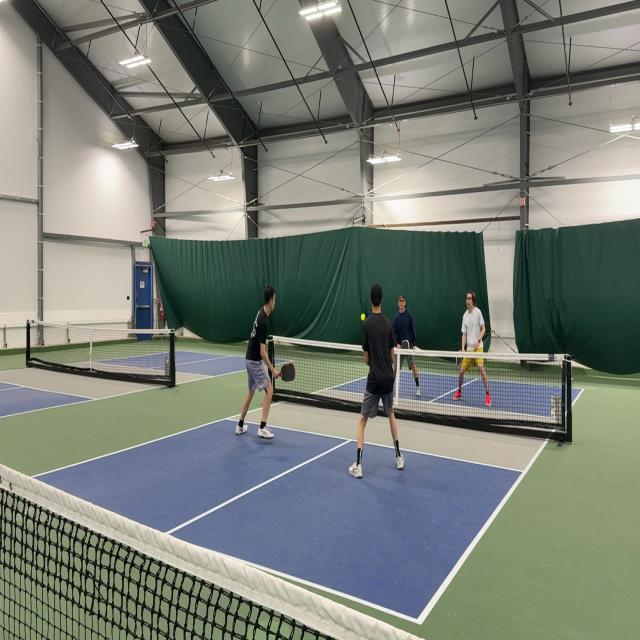ball: (360, 312, 366, 322)
